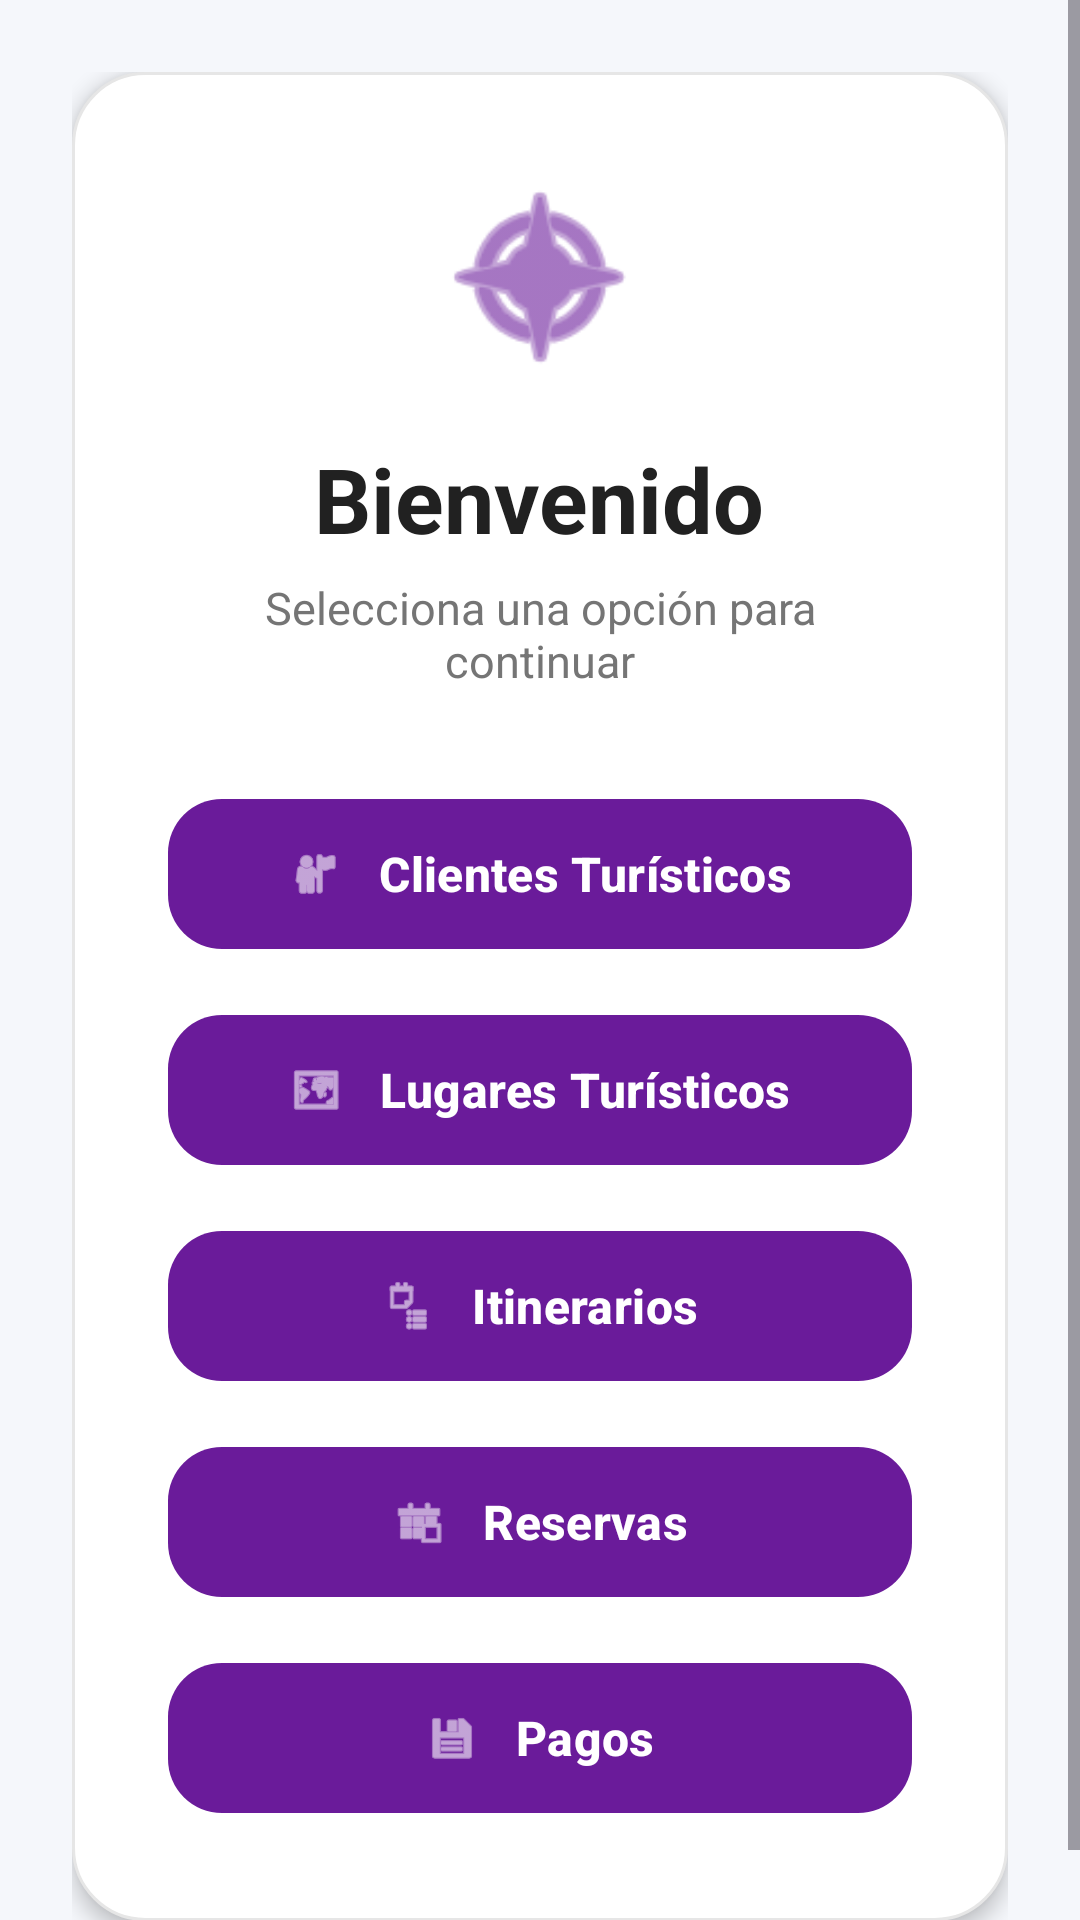

Icons on this 1080w x 1920h Android screen, each with the point to tap as (x=x, y=y):
Icono Turismo: (x=539, y=277)
